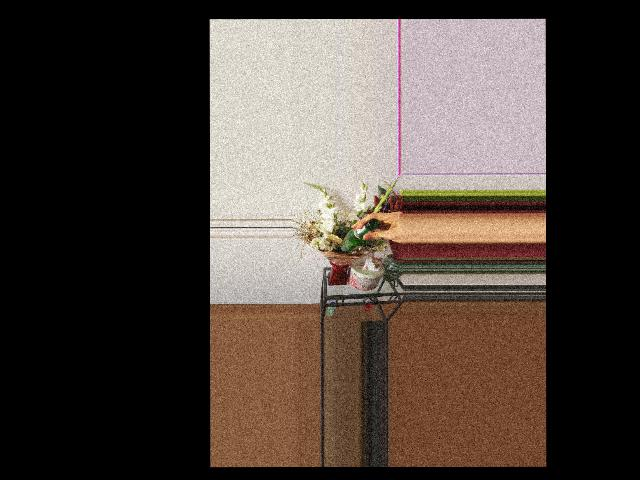beer: (340, 219, 379, 252)
